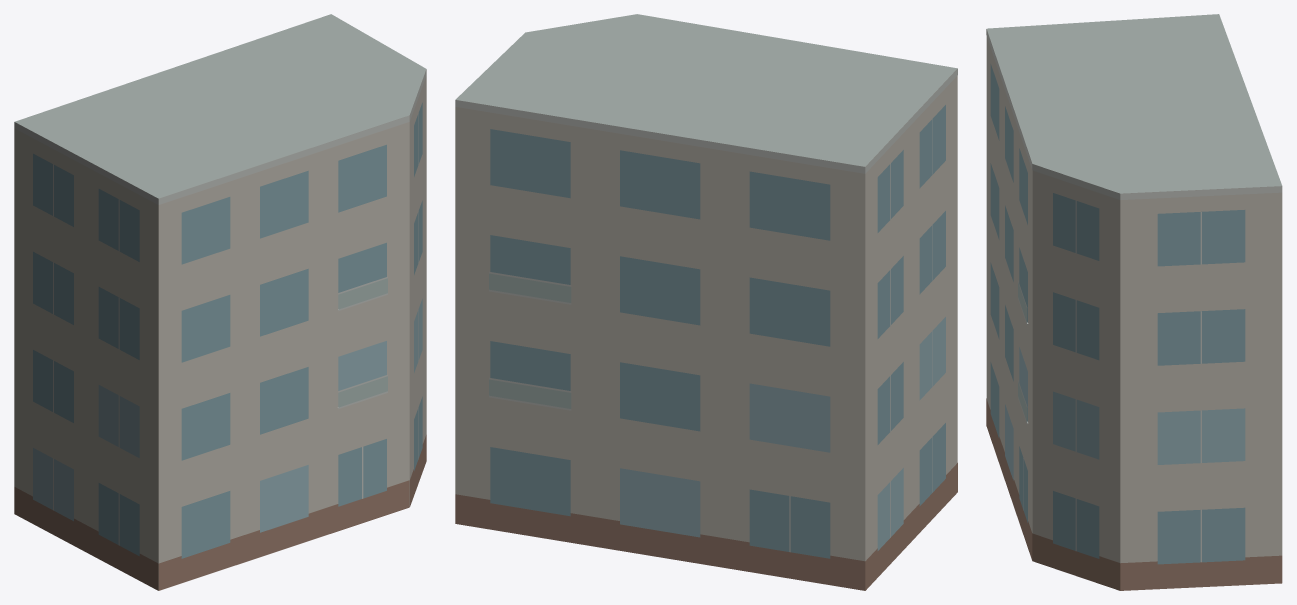
The model's file is survey-upis-32880020.glb.
3 renders of one model, left to right at view 1: azimuth 30°, elevation 25°; view 2: azimuth 150°, elevation 25°; view 3: azimuth 270°, elevation 25°, orthographic. The views are drawn at different scales.
Visible parts, largest first — view 1: survey-upis-32880020.tmp; view 2: survey-upis-32880020.tmp; view 3: survey-upis-32880020.tmp.
Boxes of the visible parts, <box> form: survey-upis-32880020.tmp: <box>14,14,426,590</box>; survey-upis-32880020.tmp: <box>455,14,957,590</box>; survey-upis-32880020.tmp: <box>986,14,1282,590</box>.
Size of the model in its own units: 14.31 by 14.75 by 9.97.
